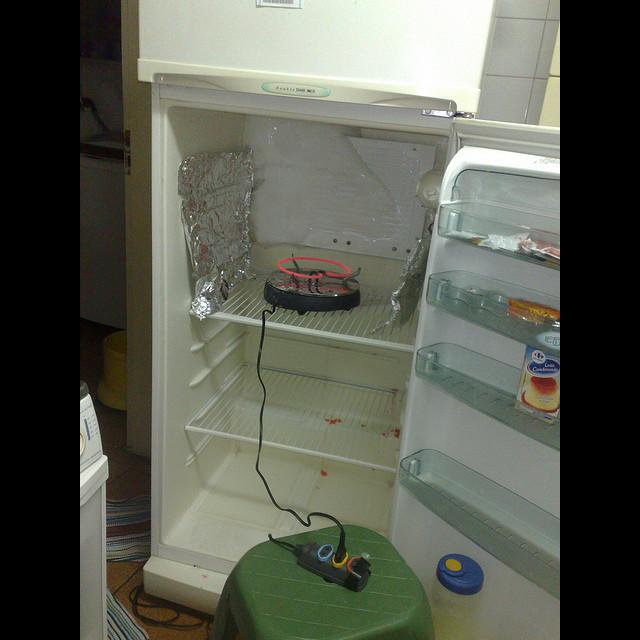Refrigerator: (137, 55, 560, 628)
